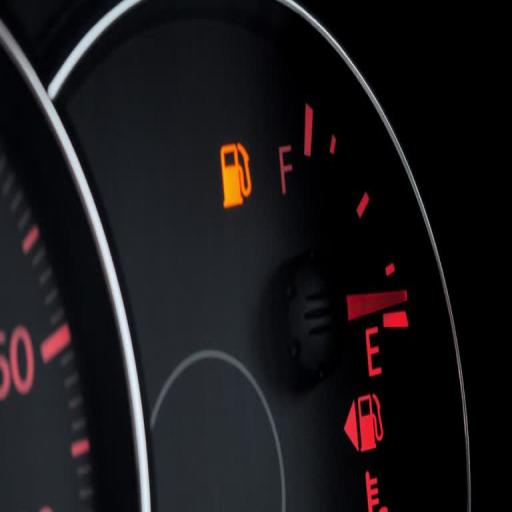empty: (359, 326, 383, 380)
fuel_icon: (215, 139, 255, 215)
full: (271, 137, 298, 199)
guage_area: (46, 0, 484, 512)
needle_center: (256, 250, 361, 392)
needle_tip: (388, 284, 414, 312)
